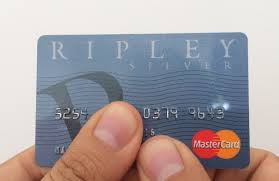tarjeta: (36, 32, 250, 169)
